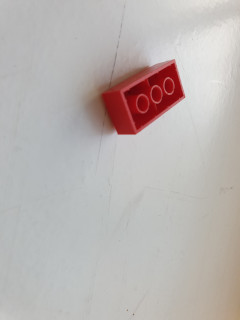2x4 red: (96, 58, 189, 137)
